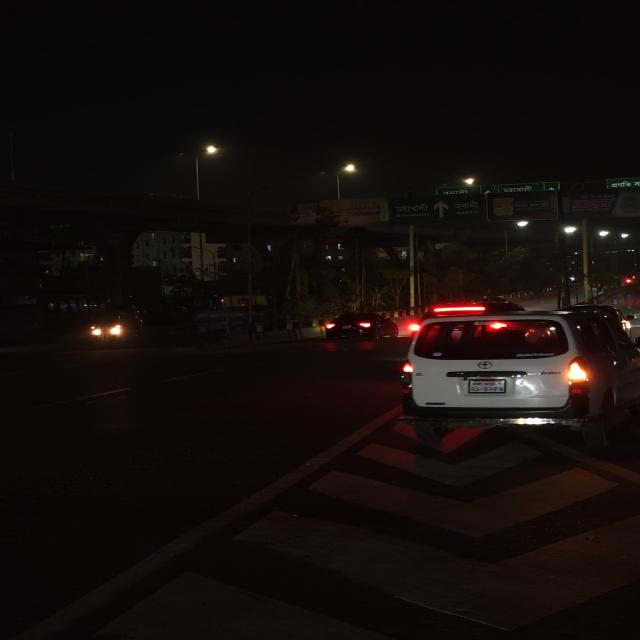car: (390, 306, 640, 450), (315, 309, 397, 345)
cng: (78, 305, 140, 351)
